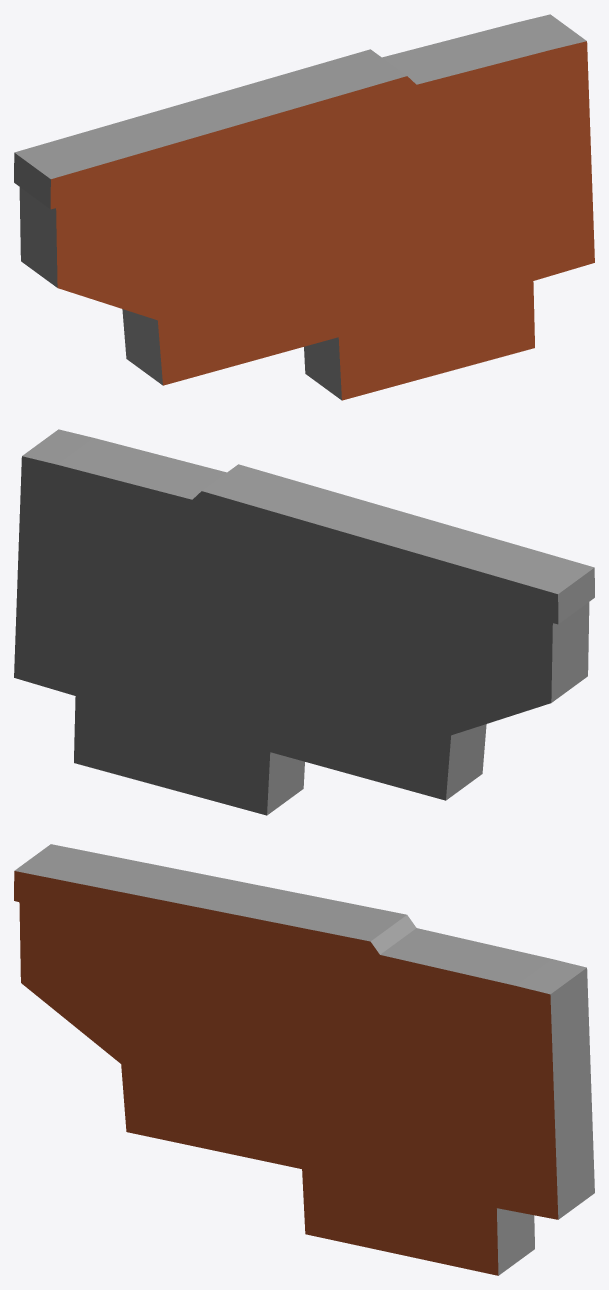
The model's file is construction_5570_assumed_A_Casa_h6m.obj.
3 renders of one model, top to bottom at view 1: azimuth 30°, elevation 25°; view 2: azimuth 150°, elevation 25°; view 3: azimuth 330°, elevation 25°, orthographic.
Visible parts, largest first — view 1: construction_5570_assumed_A_Casa; view 2: construction_5570_assumed_A_Casa; view 3: construction_5570_assumed_A_Casa.
Part boxes in pixels (x1,y1,x2,y2): construction_5570_assumed_A_Casa: [14, 14, 594, 400]; construction_5570_assumed_A_Casa: [14, 429, 594, 815]; construction_5570_assumed_A_Casa: [14, 844, 594, 1275].
Bounding box in the file's own units: 51.46 × 27.88 × 6.
